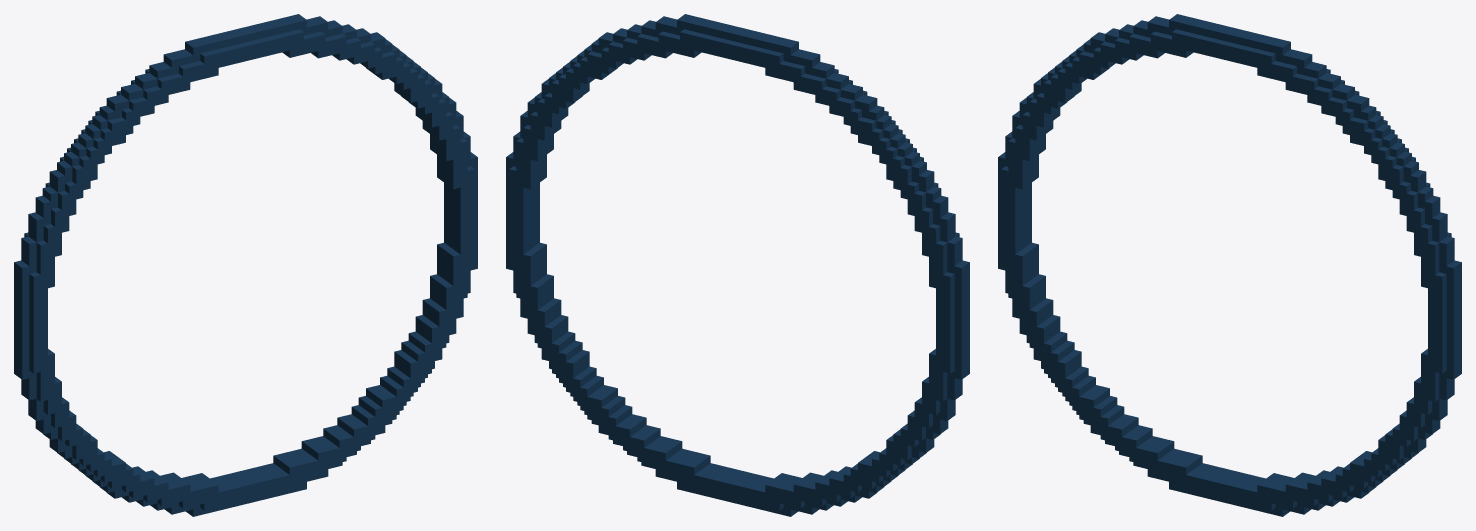
The model's file is JumpGate.fbx.
The picture shows the model from 3 angles, left to right: view 1: azimuth 30°, elevation 25°; view 2: azimuth 150°, elevation 25°; view 3: azimuth 330°, elevation 25°; orthographic projection.
Parts seen in each view (by area): view 1: Matrix; view 2: Matrix; view 3: Matrix.
Part boxes in pixels (x1=…): Matrix: x1=14, y1=14, x2=477, y2=516; Matrix: x1=506, y1=14, x2=969, y2=516; Matrix: x1=998, y1=14, x2=1461, y2=516.
Bounding box in the file's own units: 64 × 63 × 4.
1 material, 1 textured.
